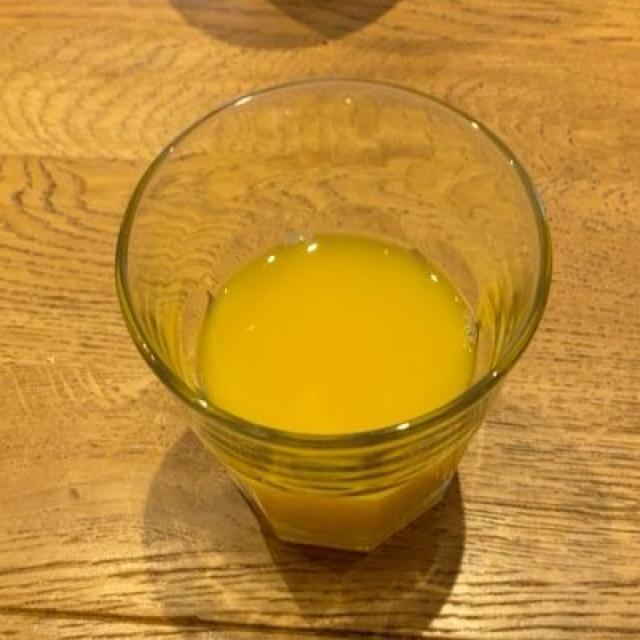juice: (197, 241, 472, 430)
